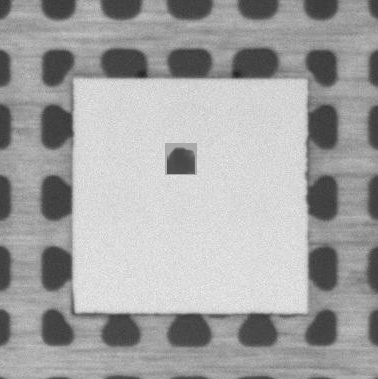DIE_INK: (165, 143, 196, 175)
